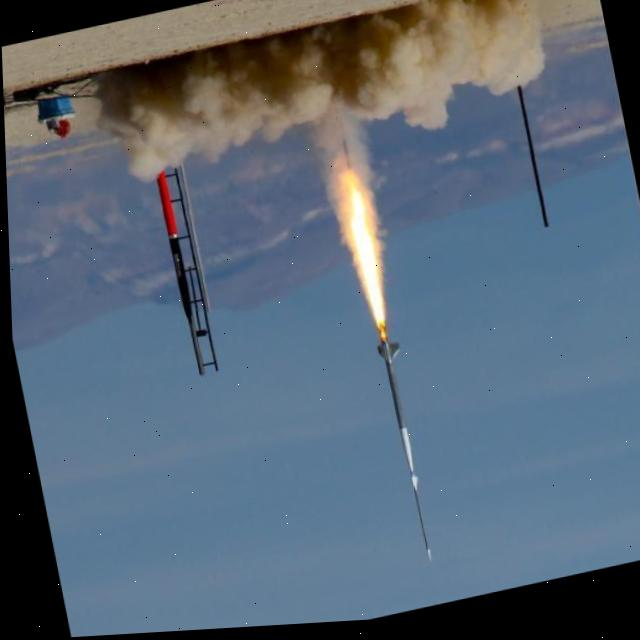missile: (370, 325, 441, 571)
